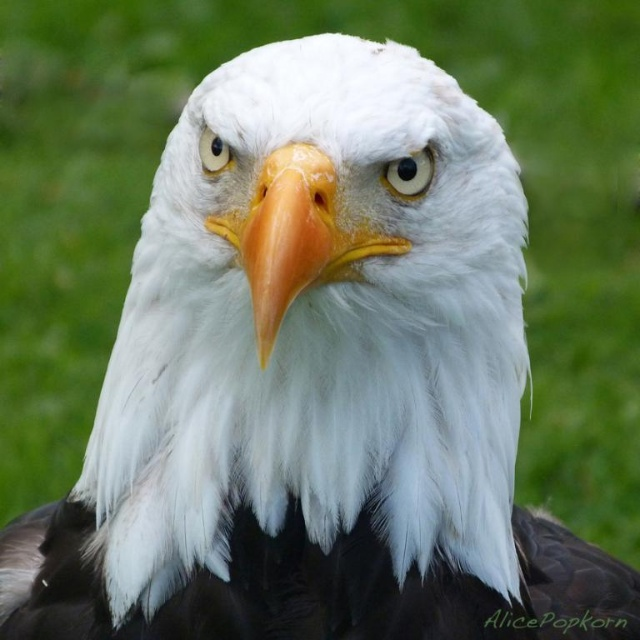Eagle: (0, 30, 639, 639)
